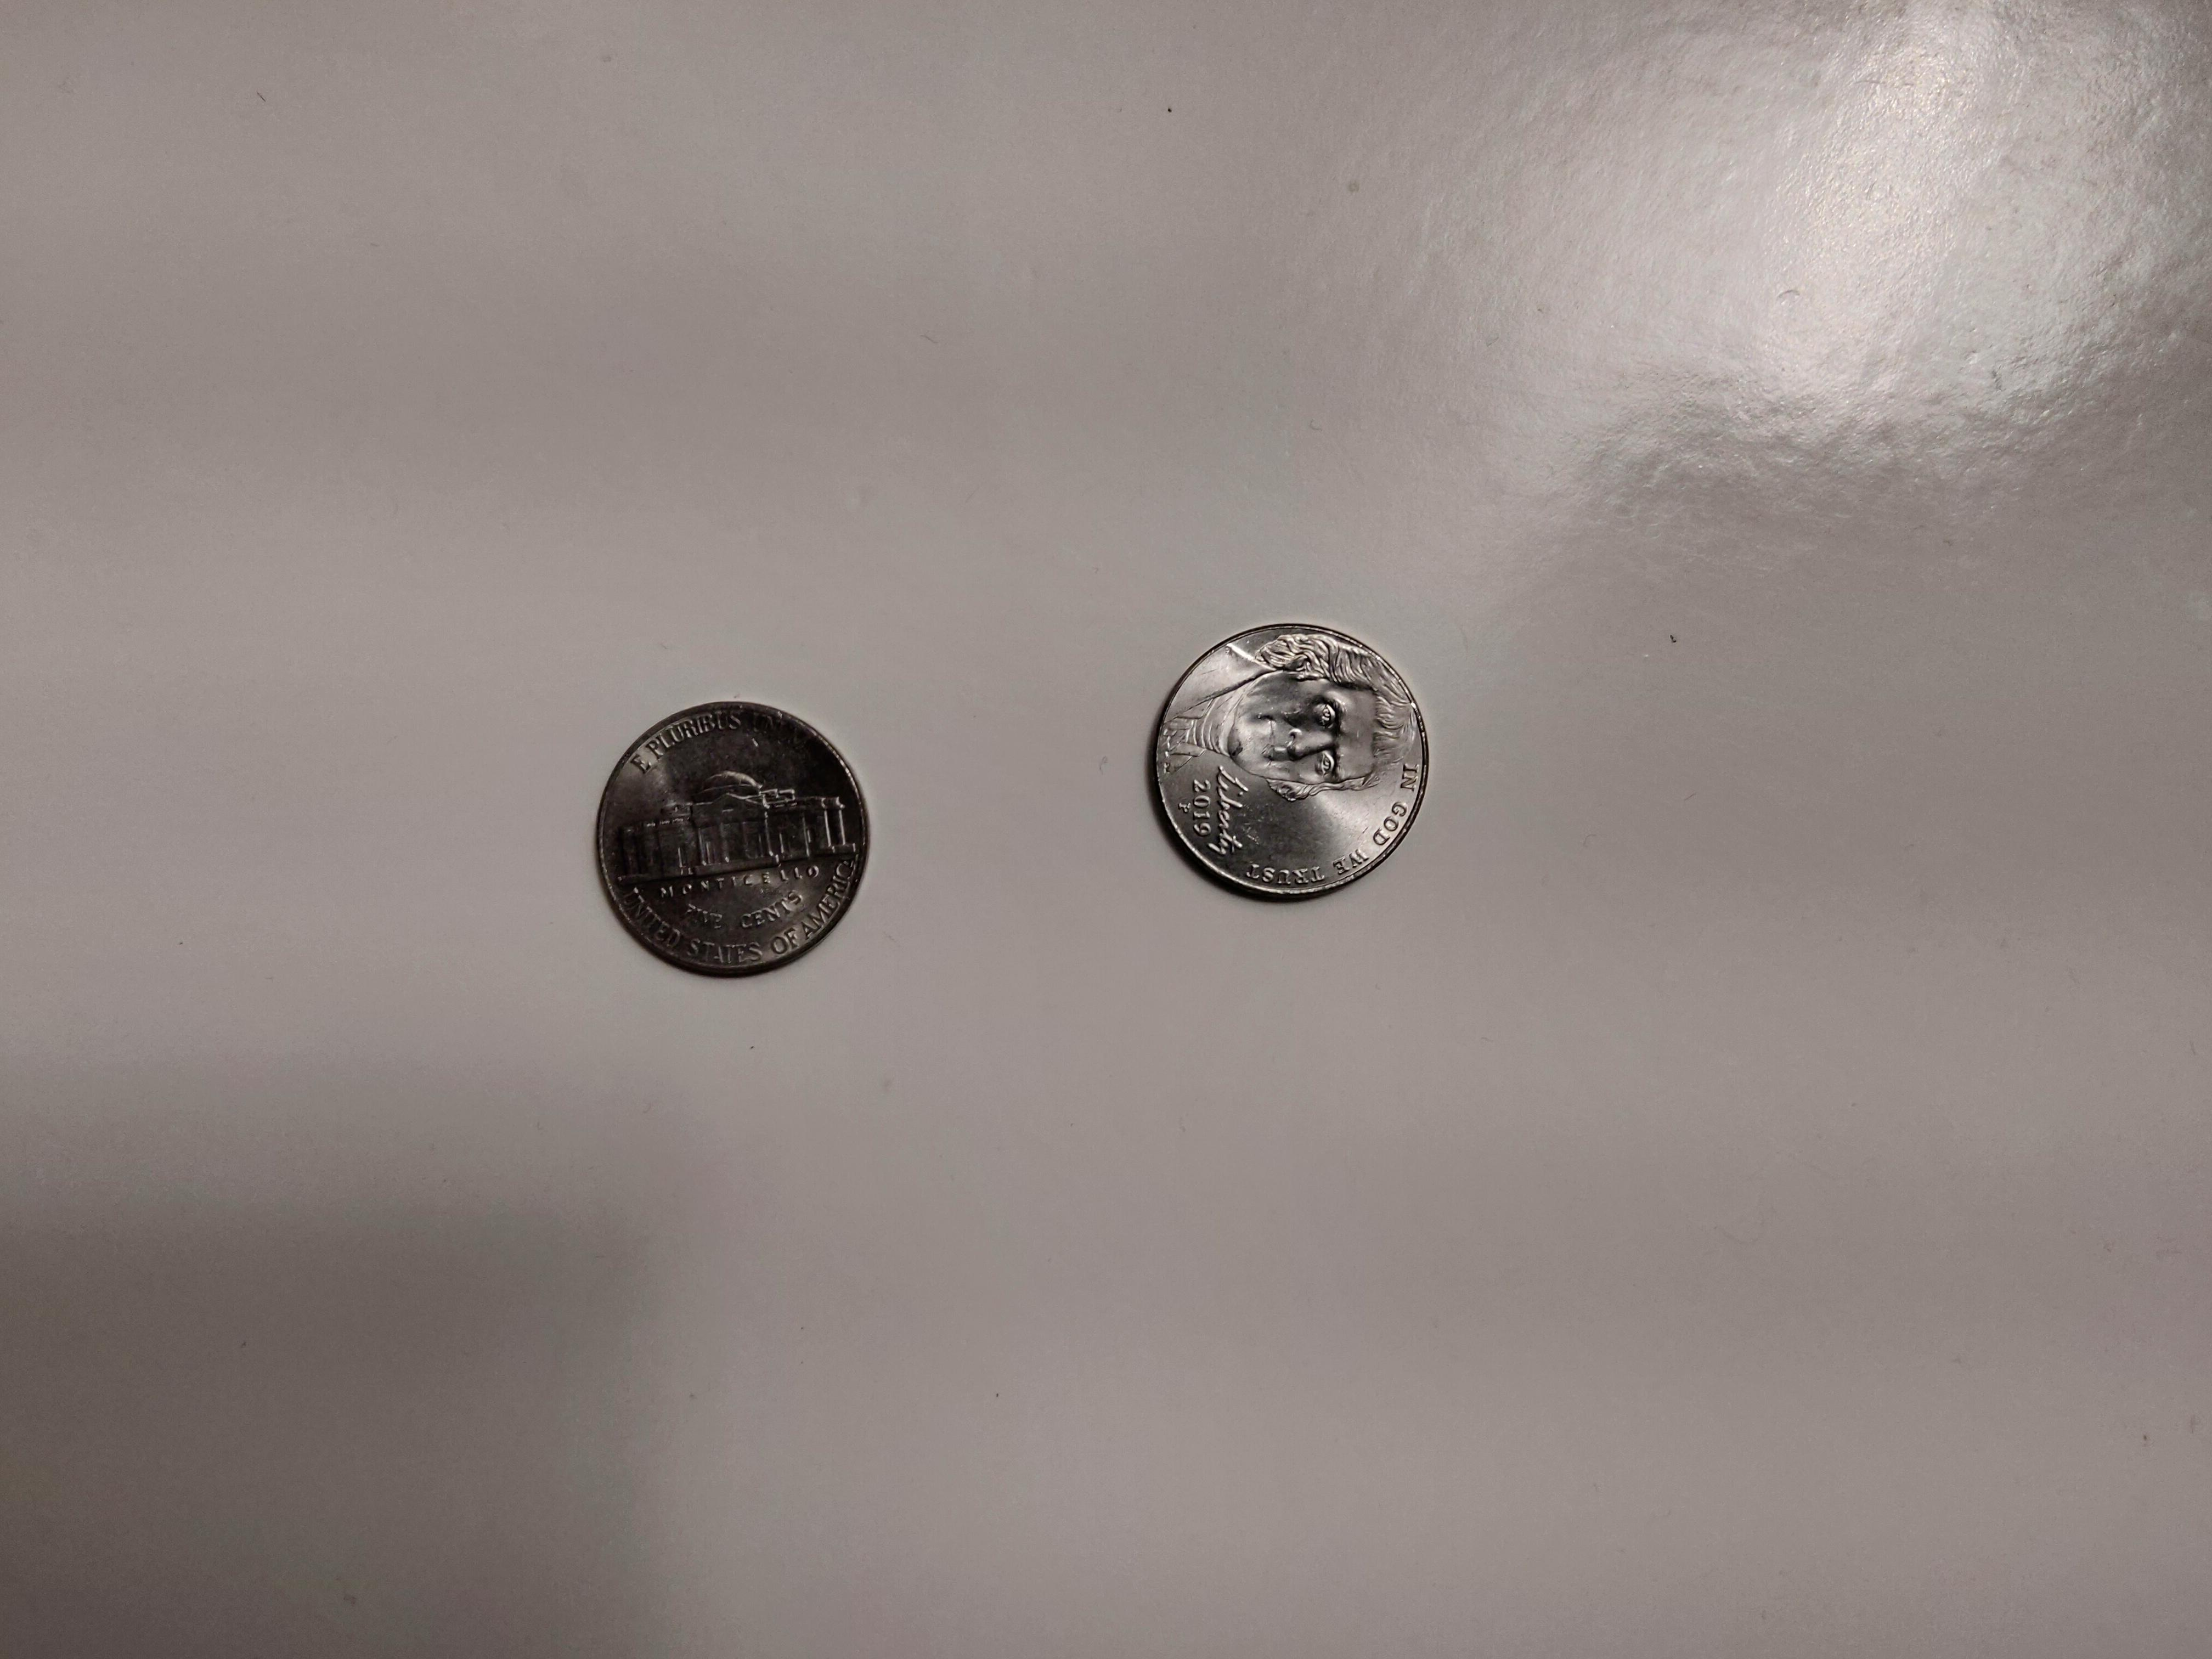Nickel: (1150, 620, 1435, 908), (592, 701, 873, 981)
